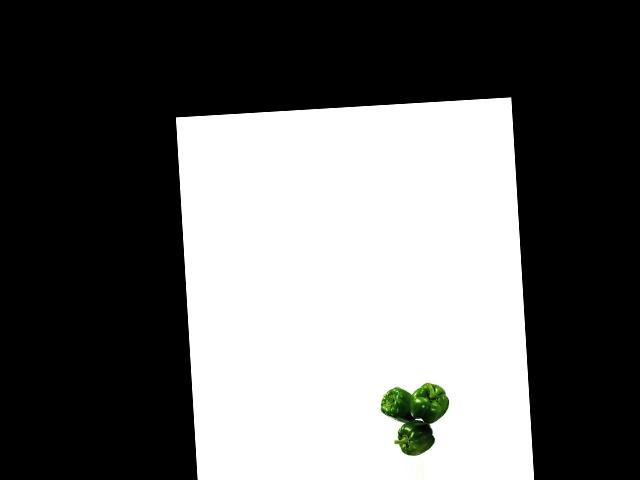bell_pepper: (407, 378, 453, 424)
